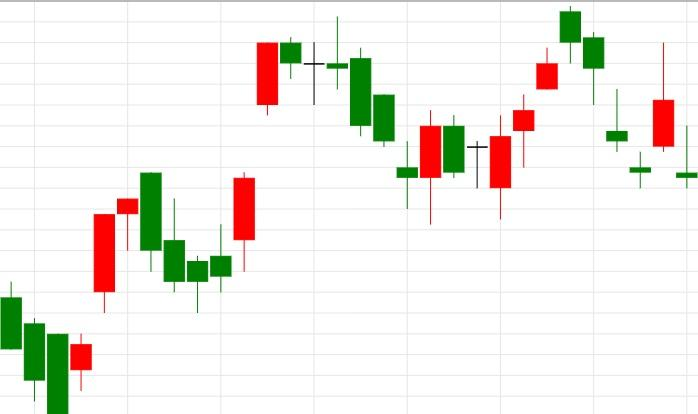bearish_engulfing_fall: (46, 172, 163, 413)
three_white_soldiers_rise: (280, 16, 559, 225), (0, 197, 139, 414)
